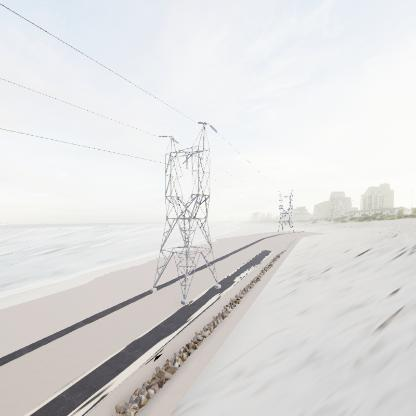tower: (144, 116, 224, 308)
